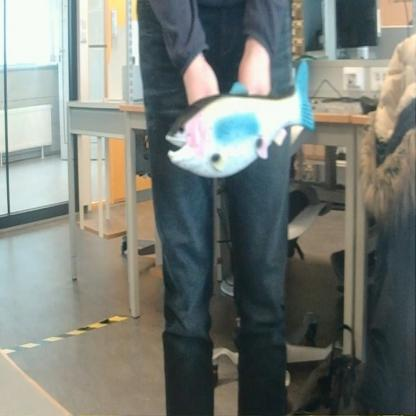rubberfish: (163, 55, 318, 179)
